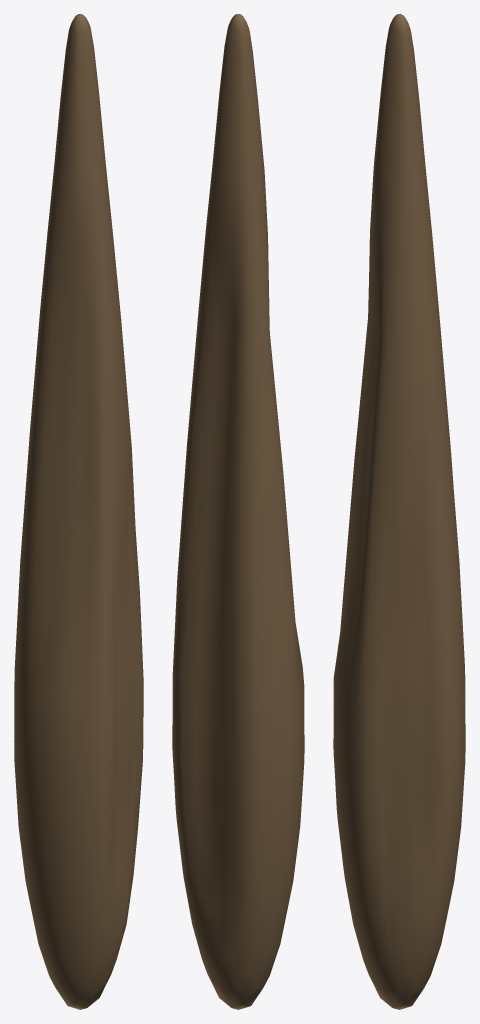
The model's file is Purple_Seed_Model.fbx.
The picture shows the model from 3 angles, left to right: view 1: azimuth 30°, elevation 25°; view 2: azimuth 150°, elevation 25°; view 3: azimuth 330°, elevation 25°; orthographic projection.
Parts seen in each view (by area): view 1: Purple_Seed; view 2: Purple_Seed; view 3: Purple_Seed.
Part boxes in pixels (x1,y1,x2,y2): Purple_Seed: (14,14,143,1009); Purple_Seed: (172,14,304,1009); Purple_Seed: (333,14,465,1009).
Size of the model in its own units: 0.0582 by 0.4726 by 0.0494.
